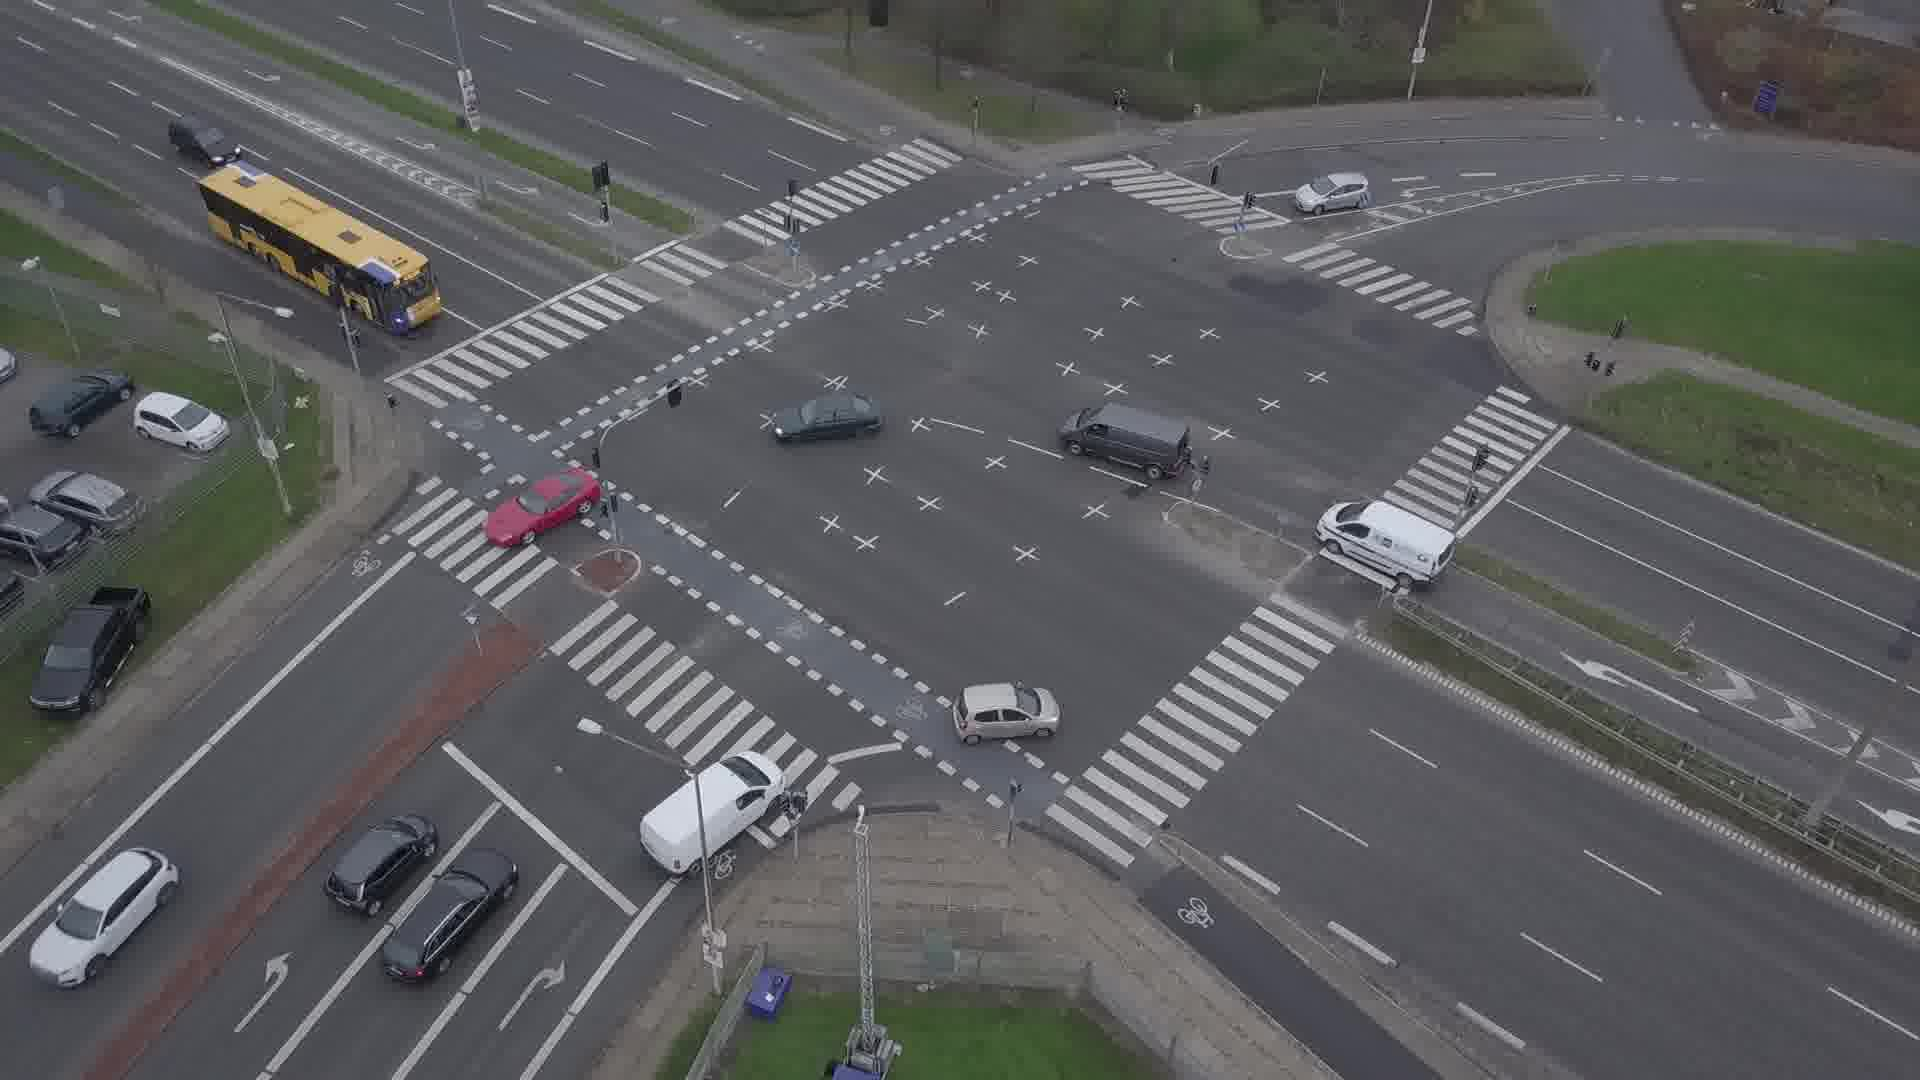bus: (198, 158, 443, 335)
car: (29, 847, 179, 986), (381, 848, 520, 986), (324, 813, 443, 918), (482, 468, 602, 546), (951, 682, 1060, 745), (773, 394, 886, 444), (168, 114, 241, 169), (1293, 172, 1371, 215)
lorry: (641, 749, 786, 878), (1315, 501, 1458, 588), (1058, 403, 1191, 482)
